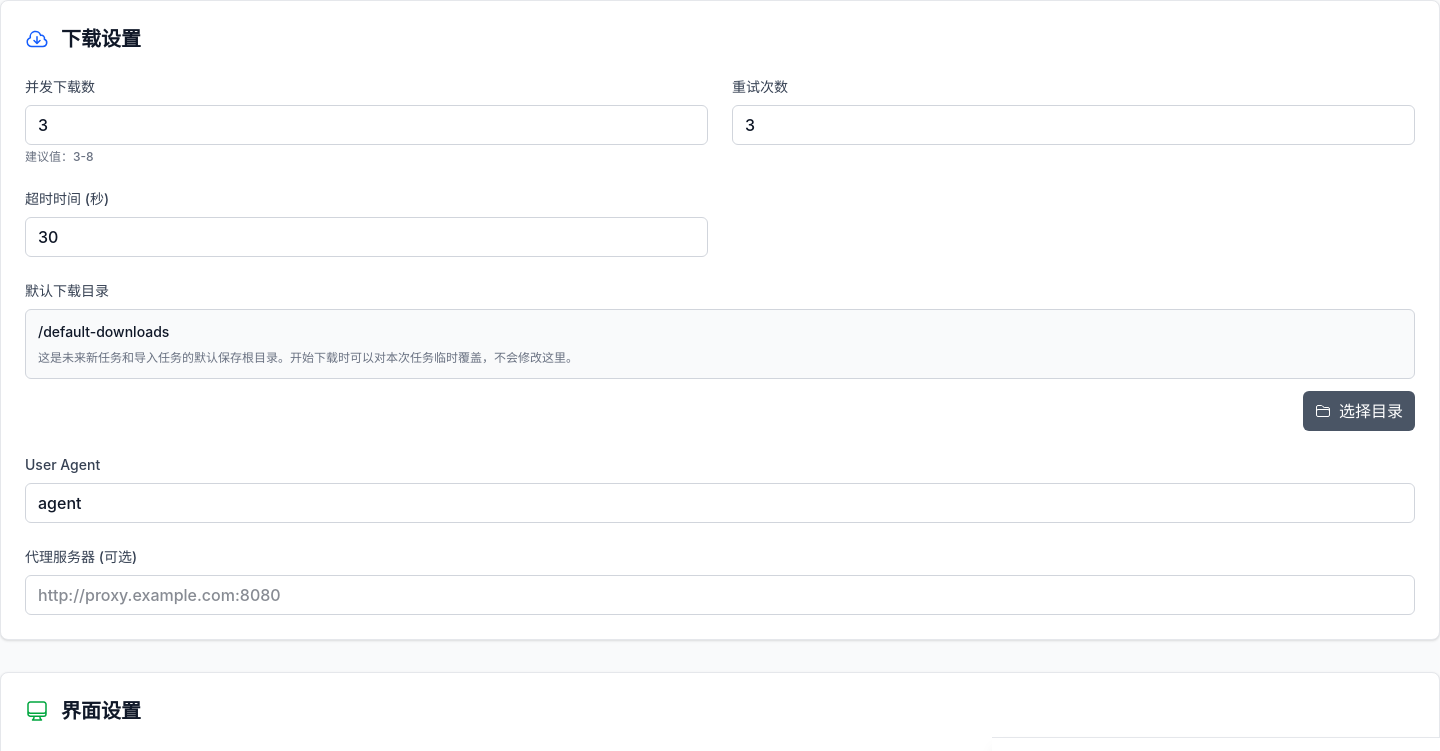
Test: SettingsView › selects default download directory through the shared system command seam
Expected: the text "/default-downloads" is shown, [38,323,169,340]
Click the button "选择目录" at (1359, 411), box [1303,391,1415,431]
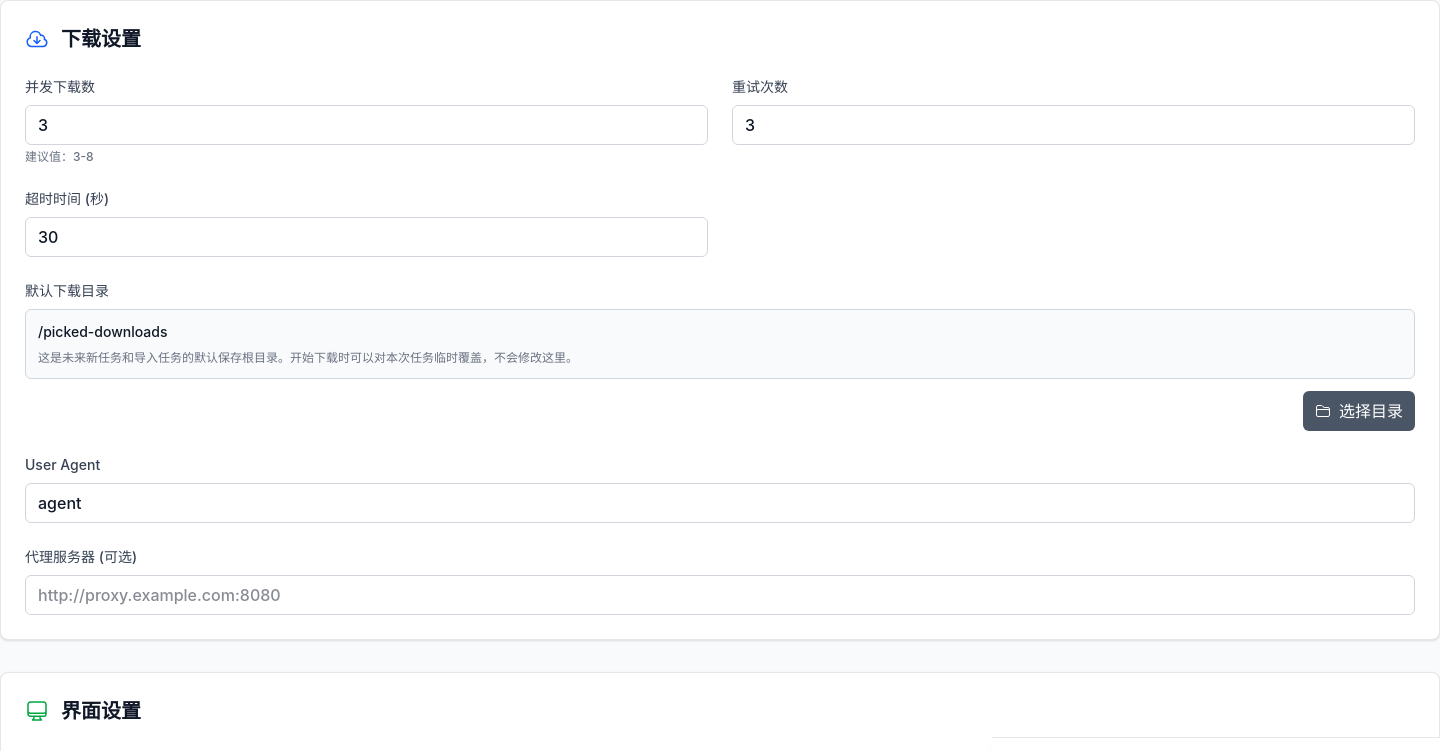
Now the text "/picked-downloads" is shown, box [38,323,168,340]
